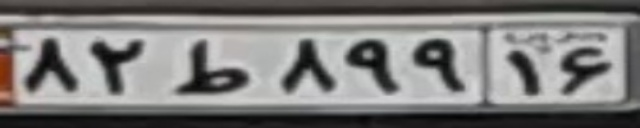1: (509, 51, 546, 95)
2: (89, 34, 148, 94)
6: (557, 44, 612, 97)
8: (275, 39, 340, 93), (26, 35, 79, 93)
9: (345, 38, 400, 93), (413, 37, 467, 92)
taa: (172, 38, 251, 93)
